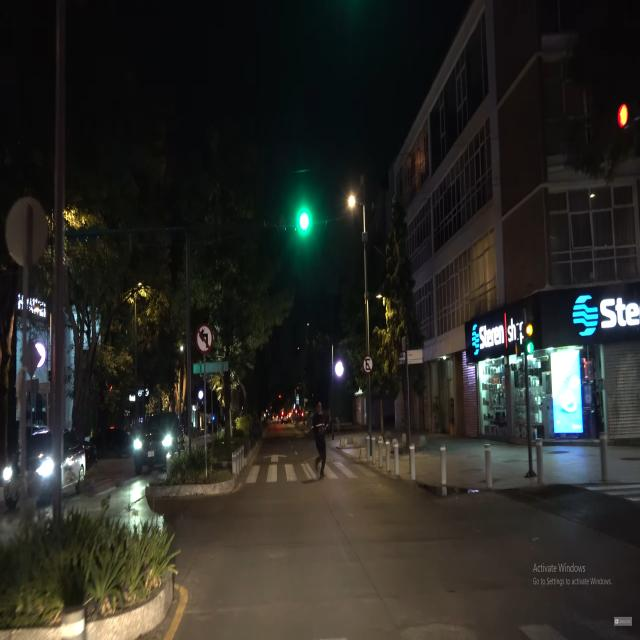headlights: (0, 446, 68, 492), (130, 427, 178, 462)
